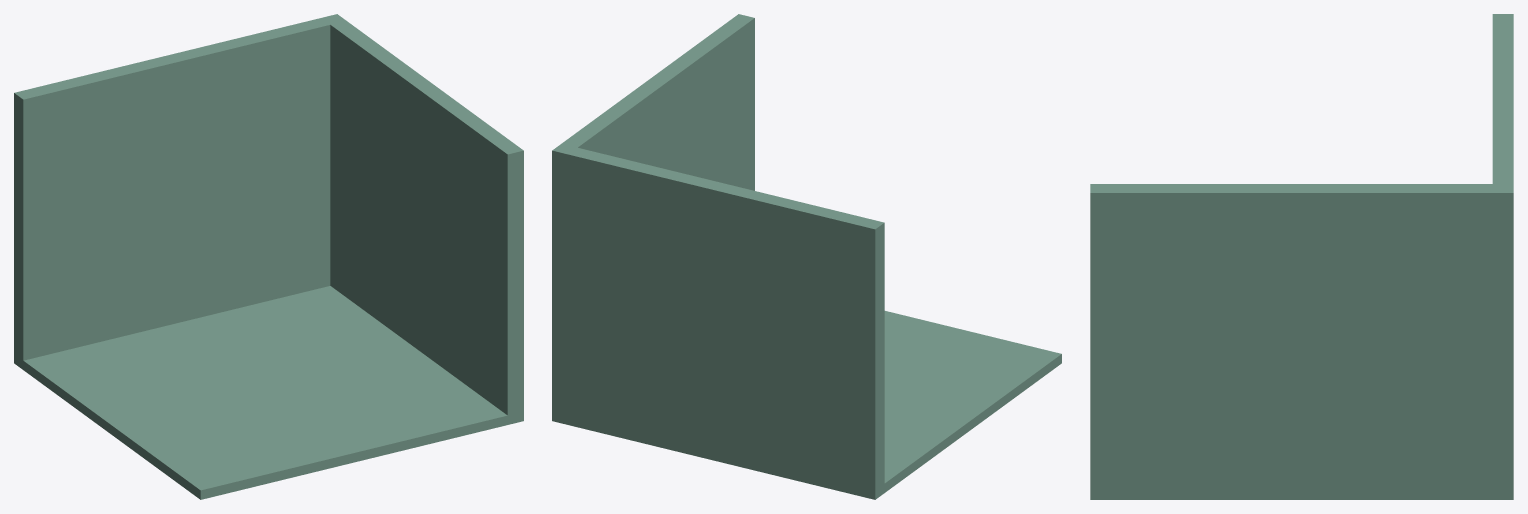
Rendered from Wall_2.fbx.
3 views of the same model, side by side, from view 1: azimuth 30°, elevation 25°; view 2: azimuth 150°, elevation 25°; view 3: azimuth 270°, elevation 25° (orthographic). The views are drawn at different scales.
Parts seen in each view (by area): view 1: Wall_2; view 2: Wall_2; view 3: Wall_2.
Part boxes in pixels (x1,y1,x2,y2): Wall_2: (14,14,523,499); Wall_2: (552,14,1061,499); Wall_2: (1090,14,1513,499).
Bounding box in the file's own units: 3.8 × 3.04 × 3.8.
